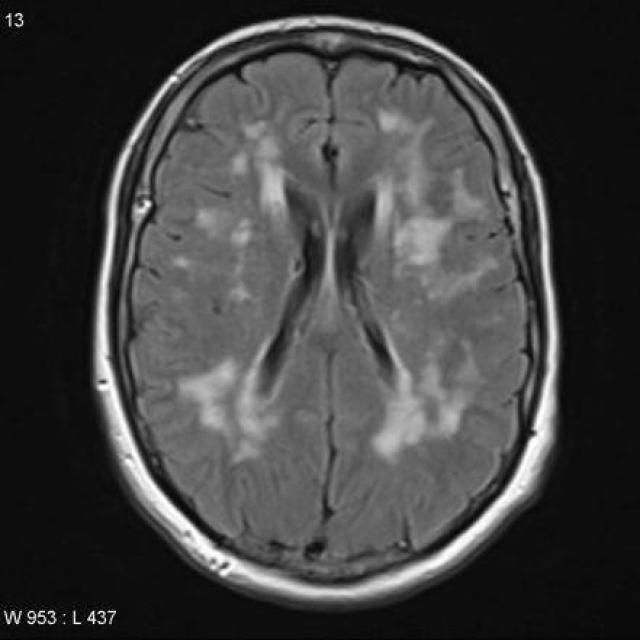notumor: (91, 16, 563, 615)
